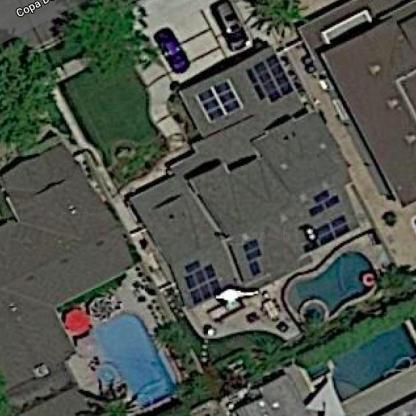car: (150, 24, 195, 78), (210, 2, 253, 55)
solar_panel: (240, 57, 298, 113), (171, 250, 226, 306), (288, 219, 360, 253), (236, 229, 273, 285), (193, 82, 245, 120), (290, 189, 345, 217)
swimming_pool: (61, 298, 188, 408), (288, 322, 414, 400), (272, 254, 387, 329)
